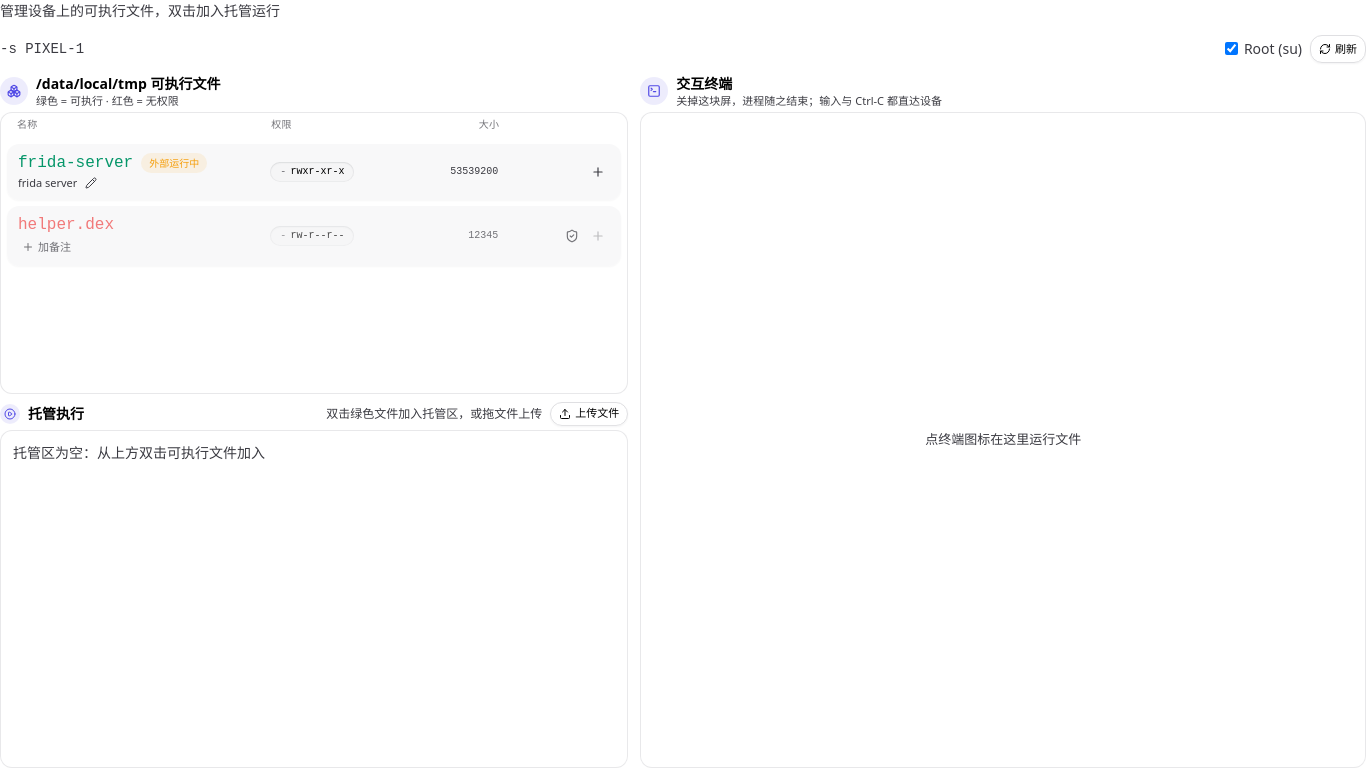
Test: ADB 子页（转发 / 托管 / 端口） › 已经在跑就只给一个「停止进程」按钮：确认后才动手，且绝不顺手起一个
Expected: the text "外部运行中" is shown, [141,153,207,173]
Step 1. Double-click the element with test id "bin-row-frida-server" → {"x": 314, "y": 172}, box [18,153,610,191]
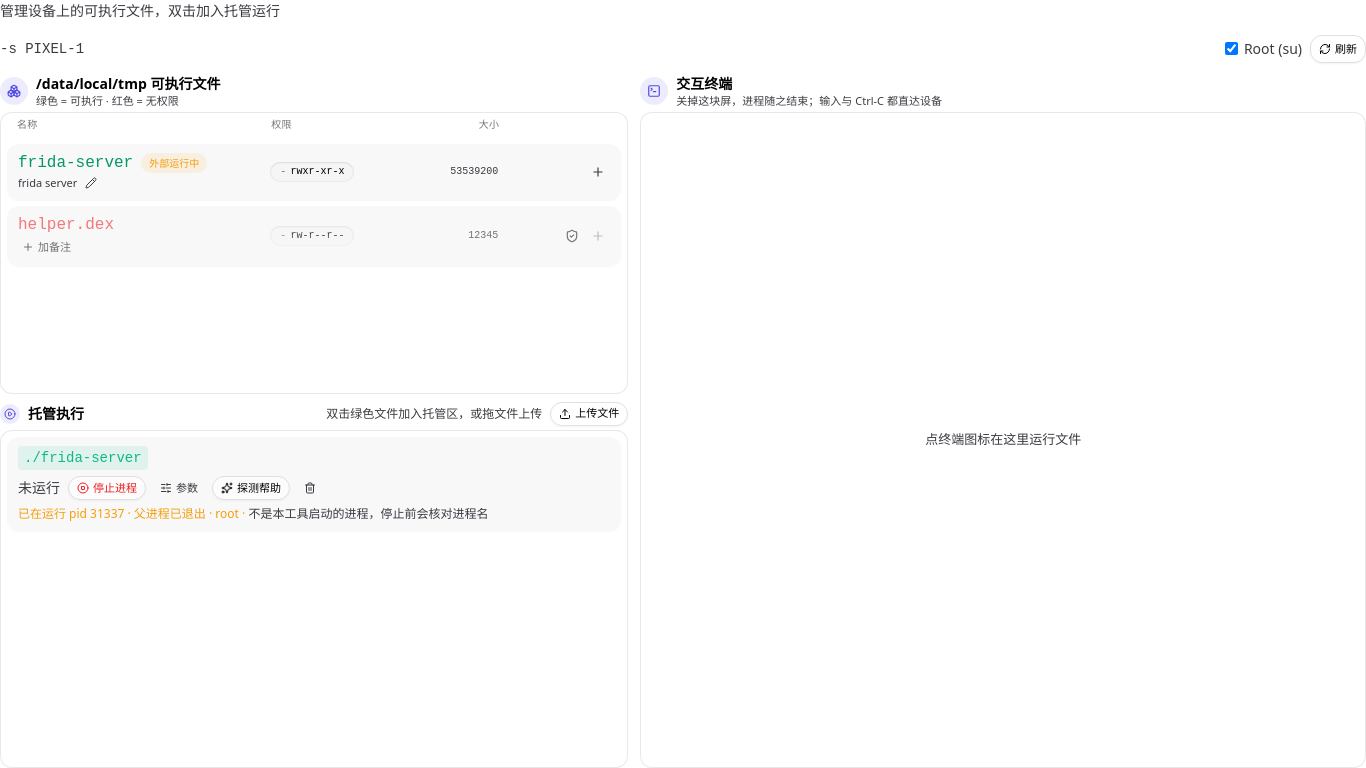
Step 2. Click the button with test id "stop-external-frida-server" → {"x": 107, "y": 488}, box [68,476,146,500]
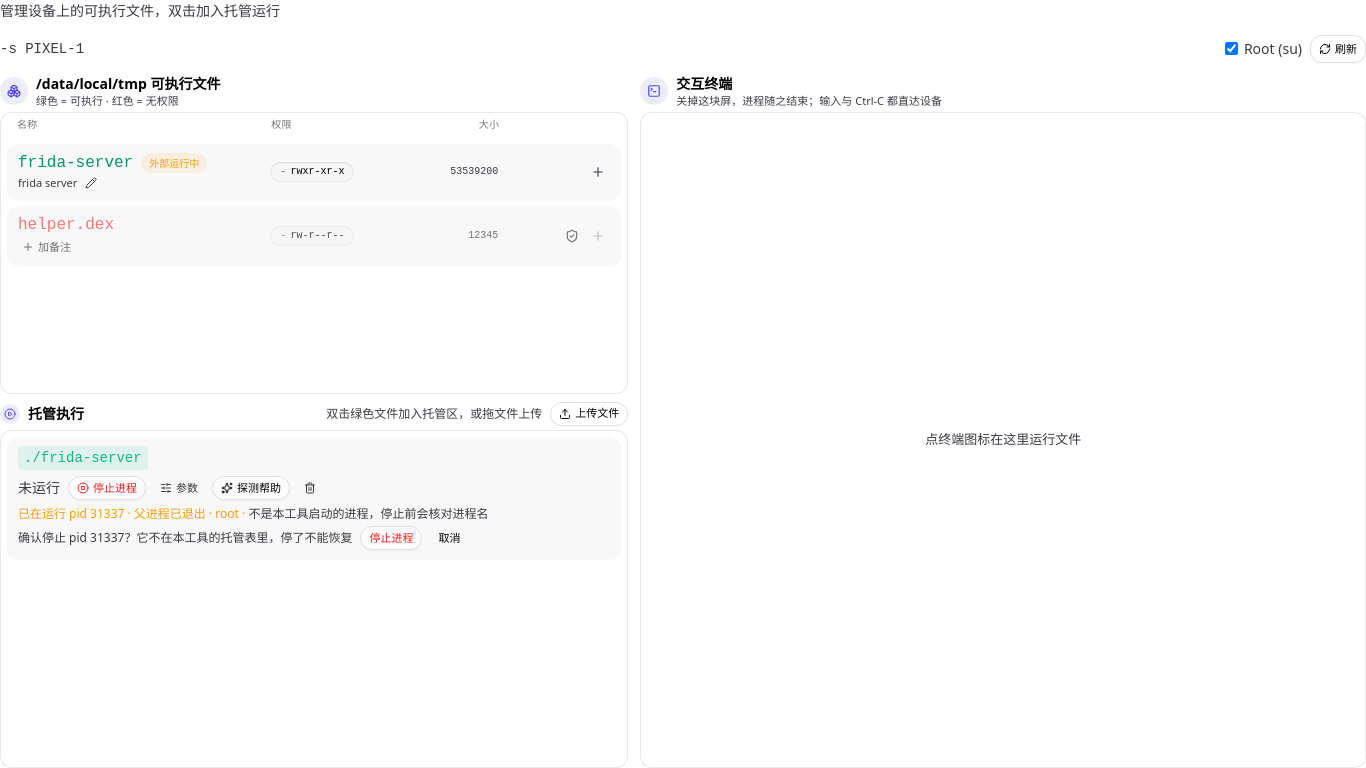
Expected: the element with test id "external-note-frida-server" shows "31337", [18,505,239,522]
Step 3. Click the button with test id "confirm-stop-frida-server" → {"x": 391, "y": 538}, box [360,526,422,550]
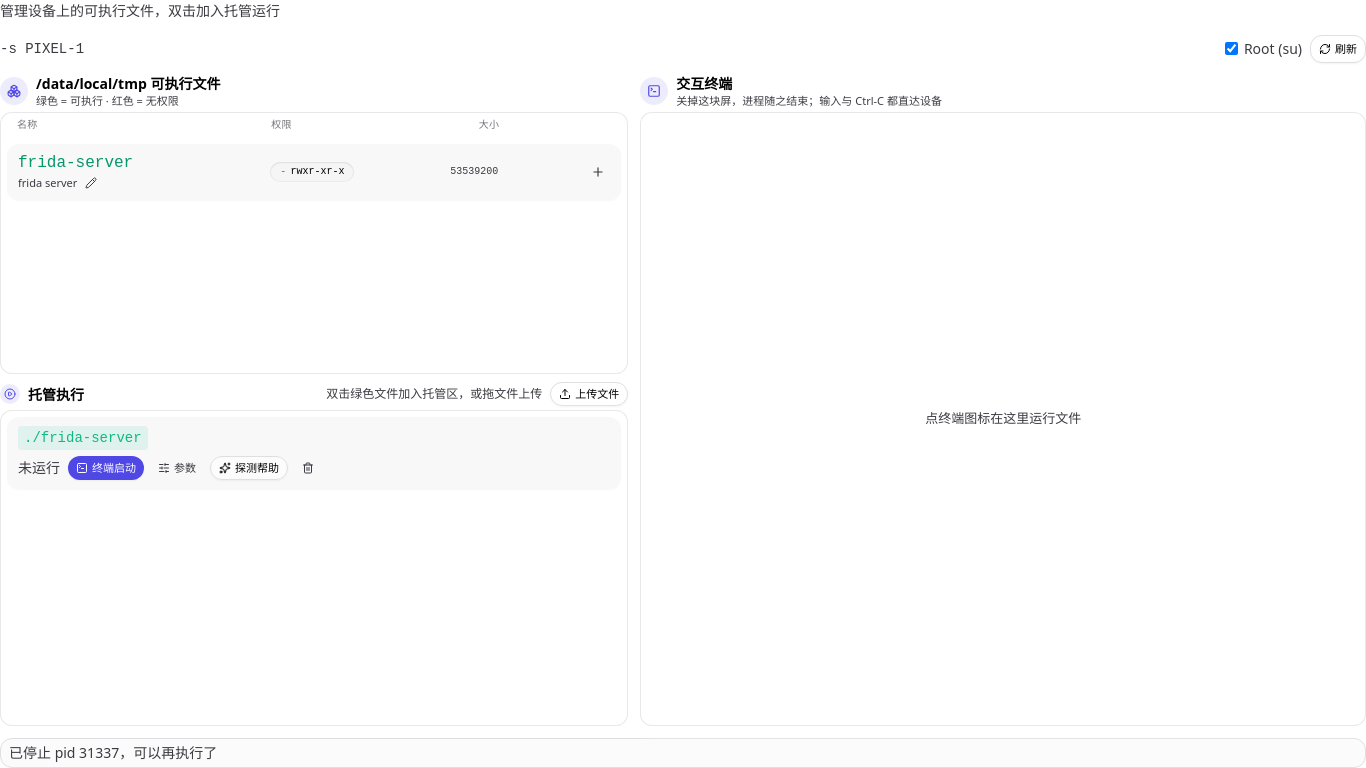
Expected: the button with test id "hosted-terminal-frida-server" is shown, [68,456,144,480]
